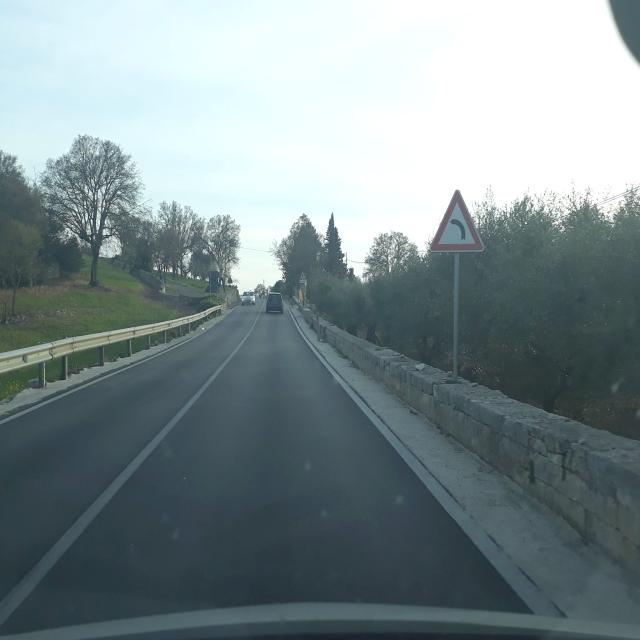car: (264, 290, 284, 316), (240, 290, 256, 307)
